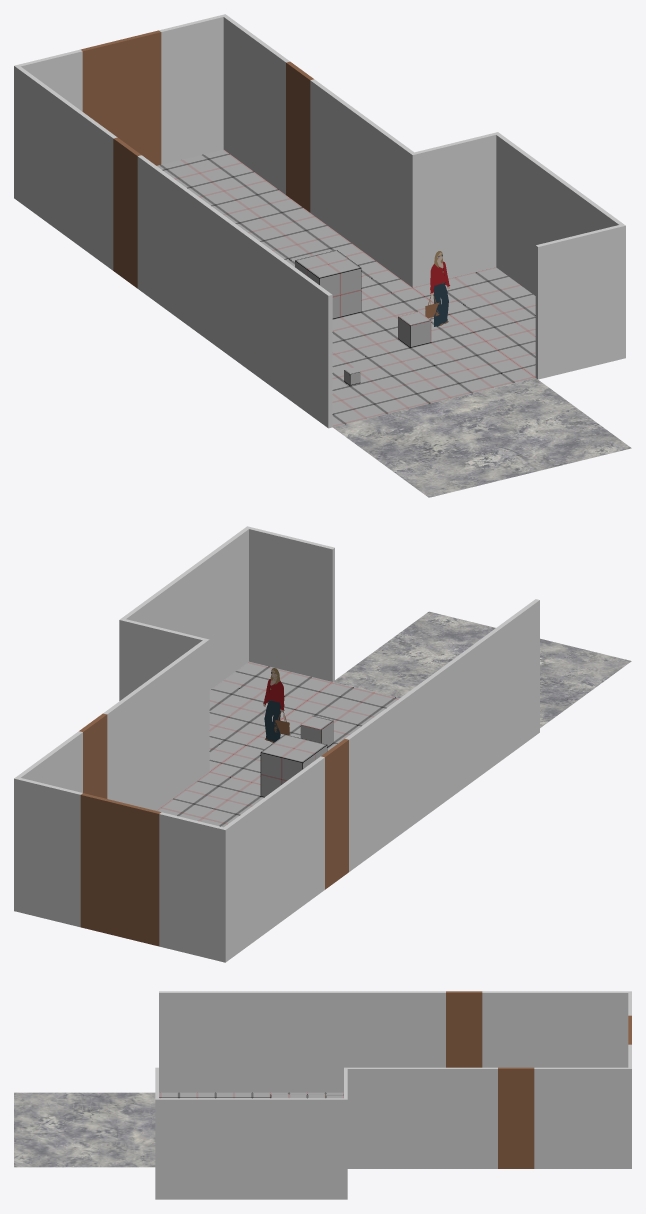
The model's file is guide-ruangan-B6.fbx.
The picture shows the model from 3 angles, top to bottom: view 1: azimuth 30°, elevation 25°; view 2: azimuth 150°, elevation 25°; view 3: azimuth 270°, elevation 25°; orthographic projection. The views are drawn at different scales.
Parts seen in each view (by area): view 1: Lantai_grid, Wall_kanan_2, Lantai_non_grid, Wall_kiri, Wall_kanan_1, Wall_kiri_4, Wall_kiri_5, Wall_kiri_3, Wall_kiri2, Wall_depan_1, Pintu_depan, Pintu__Kanan (+5 smaller); view 2: Wall_kanan_2, Lantai_grid, Wall_kanan_1, Wall_kiri, Wall_kiri_4, Pintu_depan, Lantai_non_grid, Wall_kiri_3, Wall_depan_2, Wall_depan_1, Wall_kiri_5, Pintu__Kanan (+5 smaller); view 3: Wall_kanan_2, Wall_kiri_3, Wall_kiri, Wall_kanan_1, Lantai_non_grid, Wall_kiri2, Pintu_Kiri, Pintu__Kanan, Lantai_grid, Wall_kiri_4, Wall_depan_1, kotak_200x10x100.
Part boxes in pixels (x1,y1,x2,y2): Lantai_grid: (157, 149, 535, 427); Wall_kanan_2: (137, 155, 332, 428); Lantai_non_grid: (333, 378, 631, 497); Wall_kiri: (310, 79, 416, 287); Wall_kanan_1: (16, 66, 117, 270); Wall_kiri_4: (535, 224, 625, 379); Wall_kiri_5: (415, 133, 496, 286); Wall_kiri_3: (494, 132, 622, 295); Wall_kiri2: (223, 16, 289, 194); Wall_depan_1: (159, 14, 227, 164); Pintu_depan: (80, 30, 161, 165); Pintu__Kanan: (113, 137, 141, 288); Wall_kanan_2: (345, 599, 539, 871); Lantai_grid: (157, 661, 399, 827); Wall_kanan_1: (224, 756, 324, 960); Wall_kiri: (103, 638, 209, 810); Wall_kiri_4: (245, 526, 334, 681); Pintu_depan: (80, 793, 161, 946); Lantai_non_grid: (333, 611, 631, 727); Wall_kiri_3: (119, 528, 248, 700); Wall_depan_2: (159, 812, 227, 962); Wall_depan_1: (14, 777, 82, 927); Wall_kiri_5: (123, 619, 204, 697); Pintu__Kanan: (321, 739, 348, 889); Wall_kanan_2: (159, 991, 445, 1092); Wall_kiri_3: (159, 1098, 347, 1199); Wall_kiri: (344, 1067, 497, 1168); Wall_kanan_1: (482, 991, 628, 1067); Lantai_non_grid: (14, 1092, 155, 1167); Wall_kiri2: (534, 1067, 628, 1168); Pintu_Kiri: (498, 1067, 534, 1168); Pintu__Kanan: (446, 991, 482, 1067); Lantai_grid: (159, 1092, 343, 1098); Wall_kiri_4: (155, 1067, 158, 1199); Wall_depan_1: (628, 1044, 631, 1168); kotak_200x10x100: (270, 1094, 343, 1098).
Size of the model in its own units: 699 by 300 by 1685.
